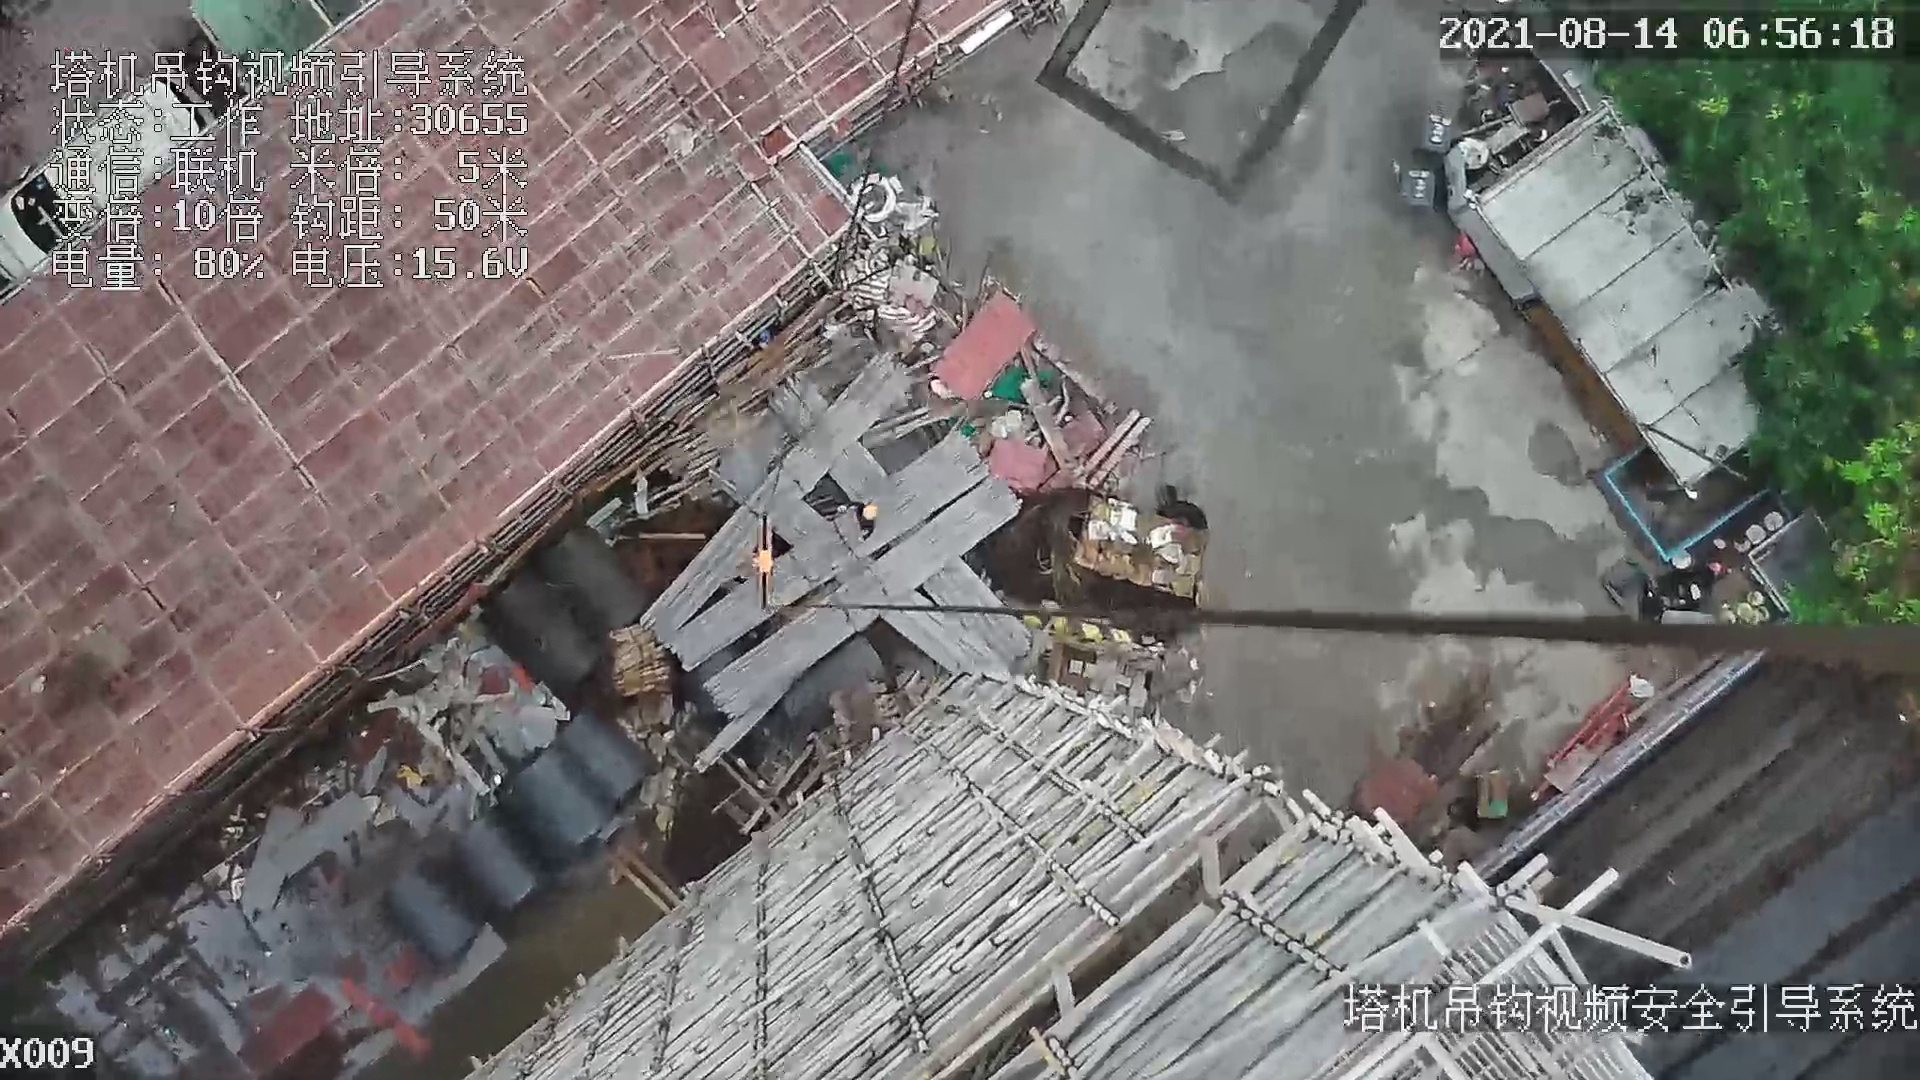helmet: (862, 505, 878, 520)
hook: (754, 514, 778, 617)
person: (841, 497, 877, 544)
rebar: (636, 352, 913, 643), (704, 475, 1022, 722), (667, 430, 990, 672), (922, 558, 1035, 658), (880, 591, 992, 673)
wood: (614, 642, 671, 697)
